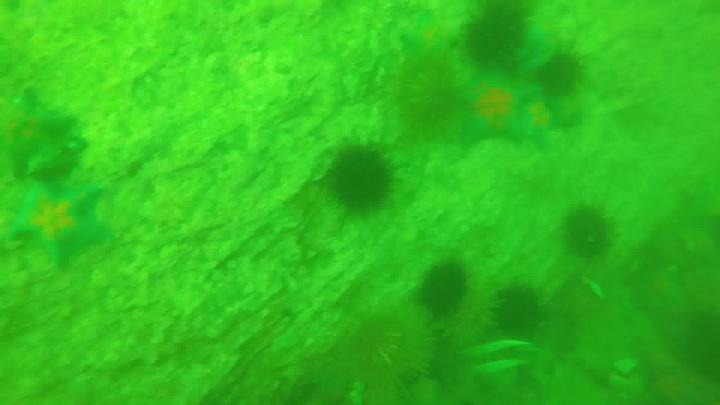echinus: (1, 175, 108, 270), (449, 74, 535, 151), (325, 146, 403, 217), (399, 60, 458, 132), (339, 316, 404, 376), (472, 3, 527, 72), (420, 262, 471, 317), (540, 50, 593, 99), (494, 286, 545, 331), (568, 205, 608, 260)
